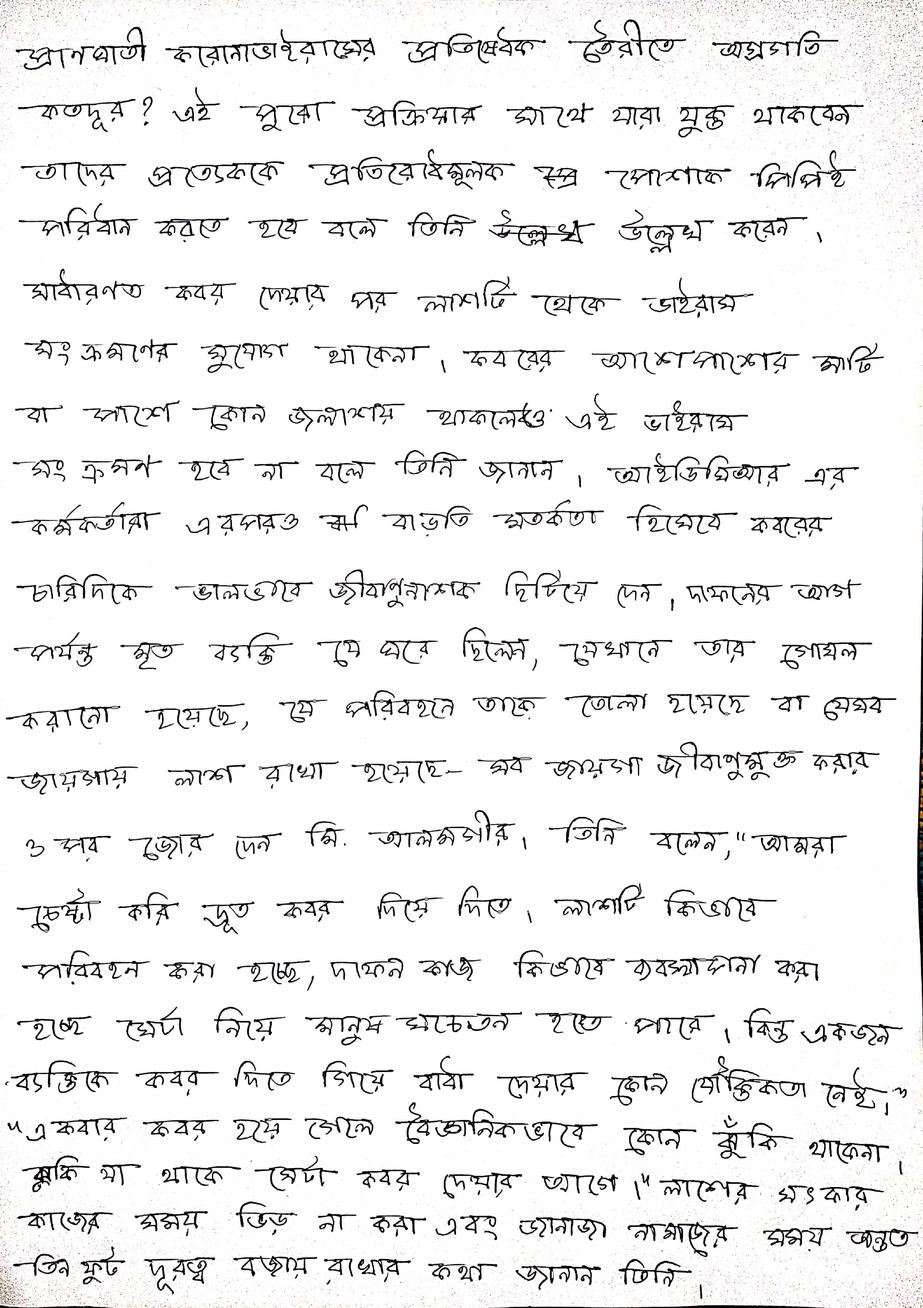line: (7, 1101, 907, 1176), (15, 1198, 917, 1257), (8, 741, 879, 797), (16, 84, 863, 139), (13, 1055, 907, 1107), (12, 18, 842, 74), (23, 1154, 834, 1211), (21, 809, 847, 862), (16, 202, 825, 254), (13, 627, 873, 671), (24, 337, 883, 381), (20, 147, 850, 192), (5, 690, 893, 732), (12, 448, 859, 491), (16, 1006, 899, 1047), (21, 884, 775, 932), (15, 1245, 707, 1297), (17, 572, 865, 612), (13, 391, 747, 437), (21, 948, 822, 990), (14, 499, 834, 538), (24, 270, 754, 311)
